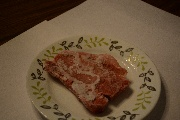beef: (46, 51, 130, 113)
